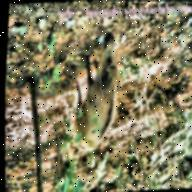boar: (52, 27, 153, 160)
